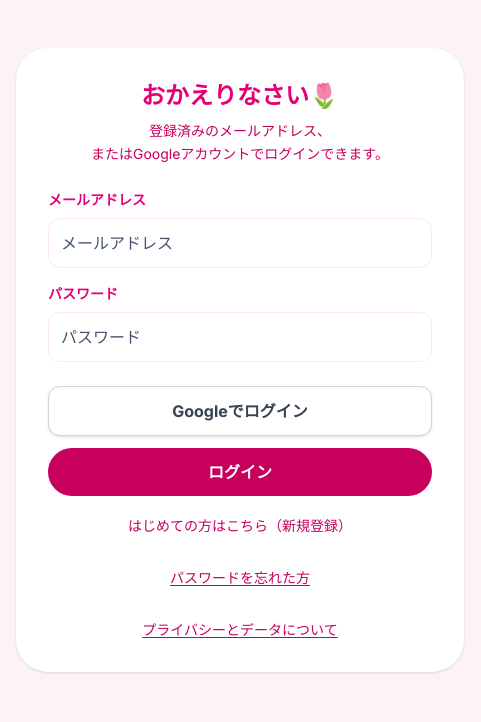
LoginPage › モード切り替え時に入力エラーと入力欄の参照を消す
The image size is (481, 722).
Click the button "ログイン" at (240, 472), box [48,448,432,496]
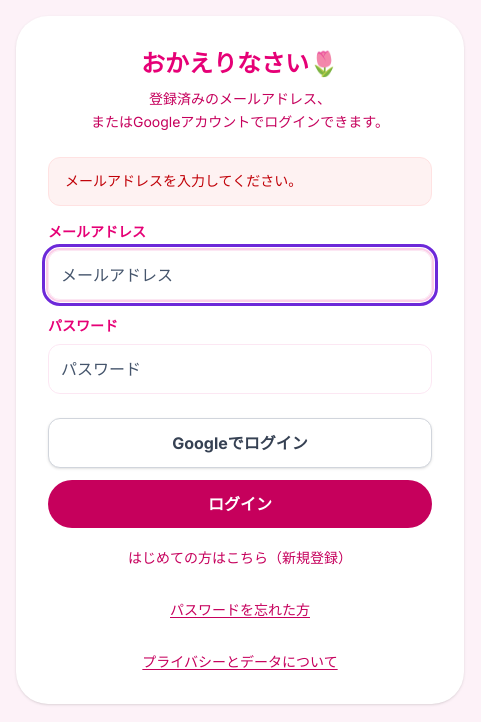
Expected: the text "メールアドレスを入力してください。" is shown, [48,157,432,206]
Click the button "はじめての方はこちら（新規登録）" at (240, 558), box [48,540,432,576]
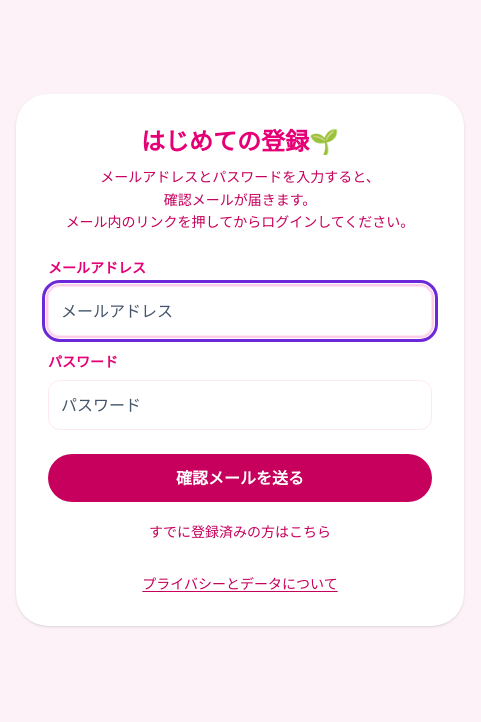
Expected: the message "メールアドレスを入力してください。" is gone
